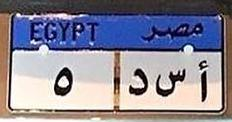5: (51, 63, 76, 99)
alif: (195, 60, 211, 103)
daal: (128, 66, 150, 100)
seen: (154, 67, 187, 100)
